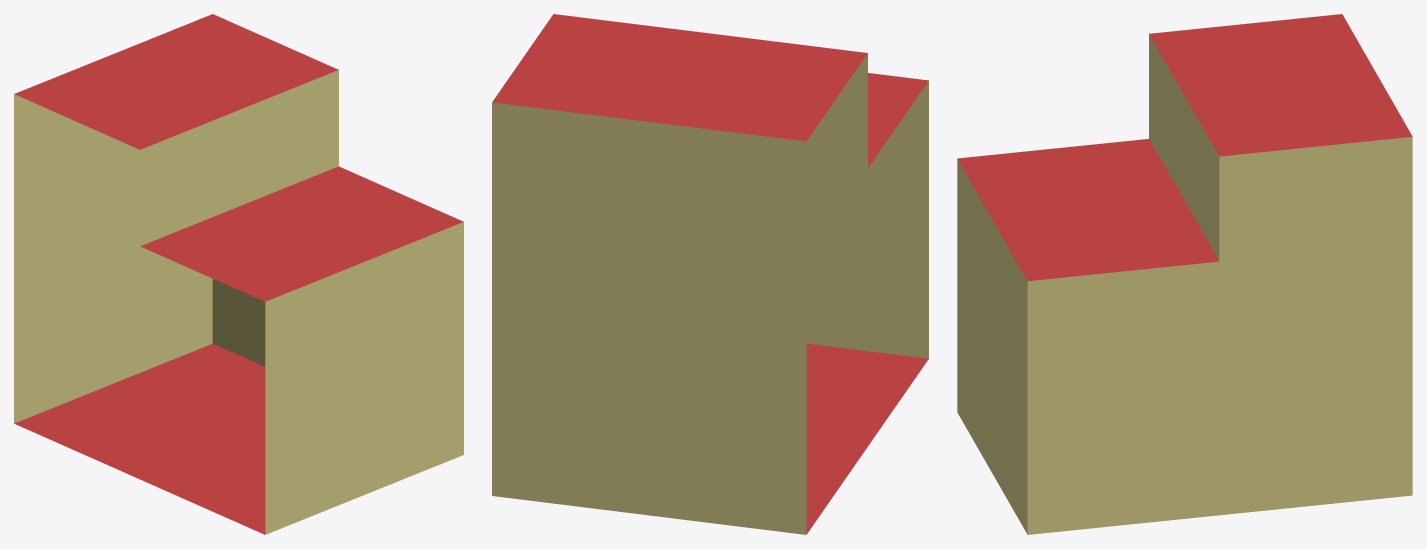
3 renders of one model, left to right at view 1: azimuth 30°, elevation 25°; view 2: azimuth 150°, elevation 25°; view 3: azimuth 270°, elevation 25°, orthographic. The views are drawn at different scales.
Bounding box in the file's own units: 8.37 × 9.94 × 8.64.
